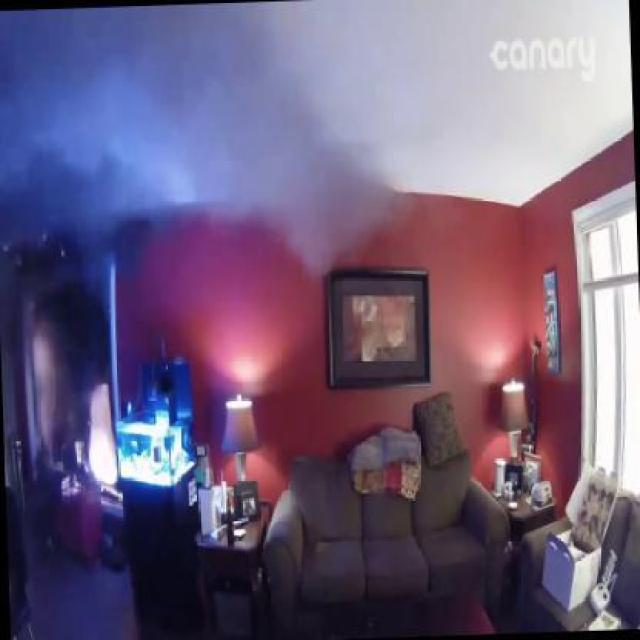fire: (0, 0, 403, 283)
